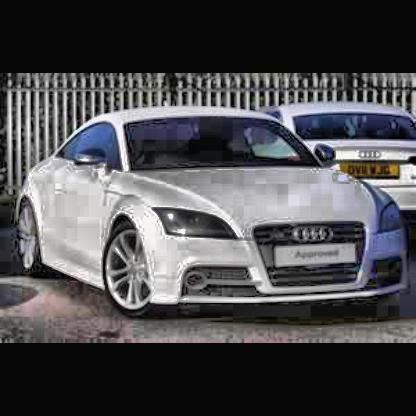Audi TT Hatchback 2011: (19, 106, 383, 322)
